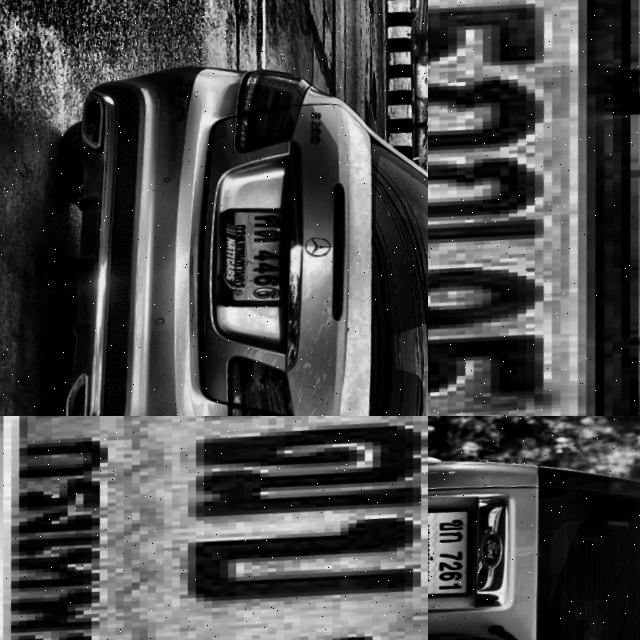license-plate: (0, 416, 428, 640), (428, 0, 640, 416), (212, 202, 301, 308), (428, 503, 482, 599)
